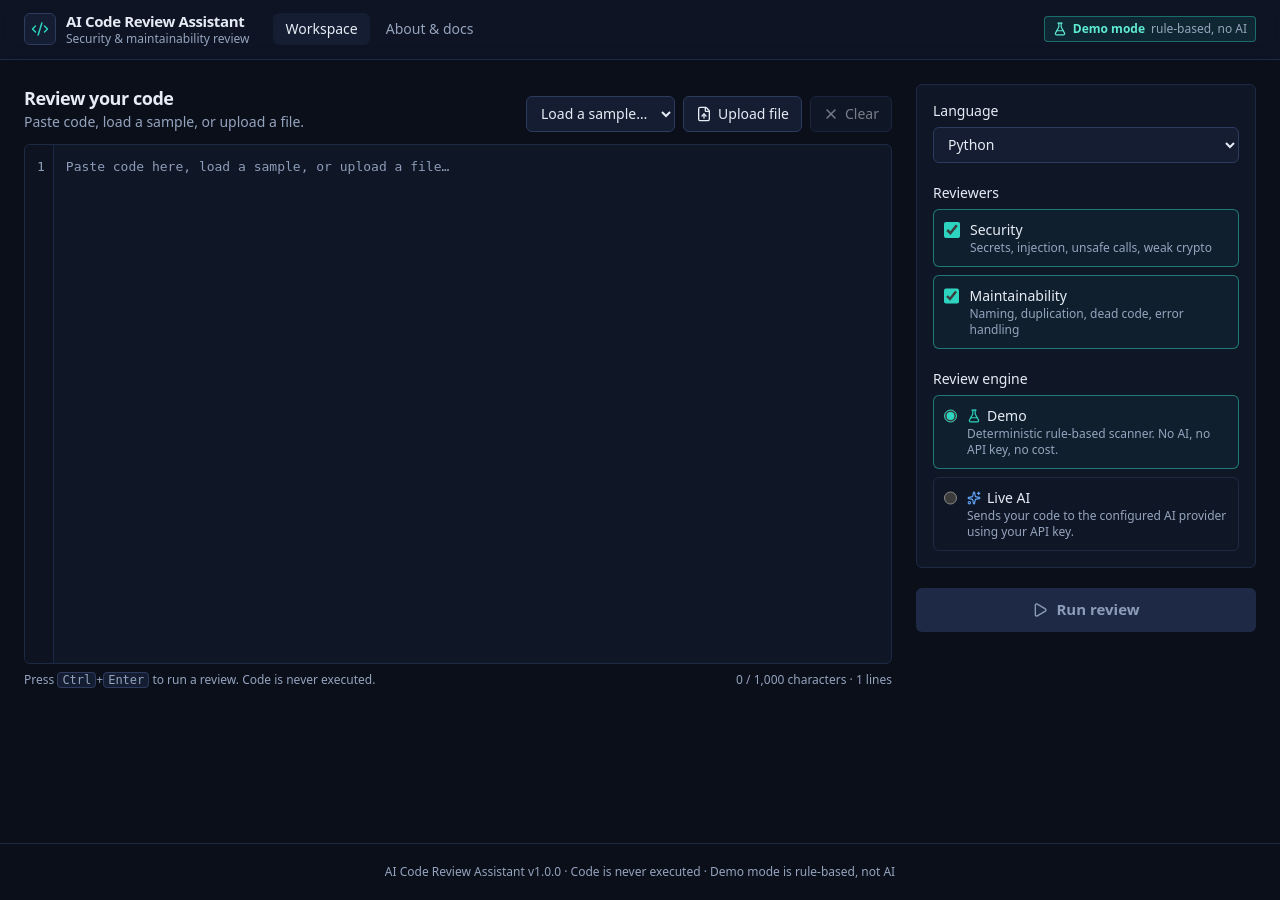
it: review flow › shows the explanation and suggested fix of the selected finding
Type "x = 1" into the text box named "Code to review".
click(472, 404); type("x = 1")  # box left=54, top=145, right=891, bottom=663
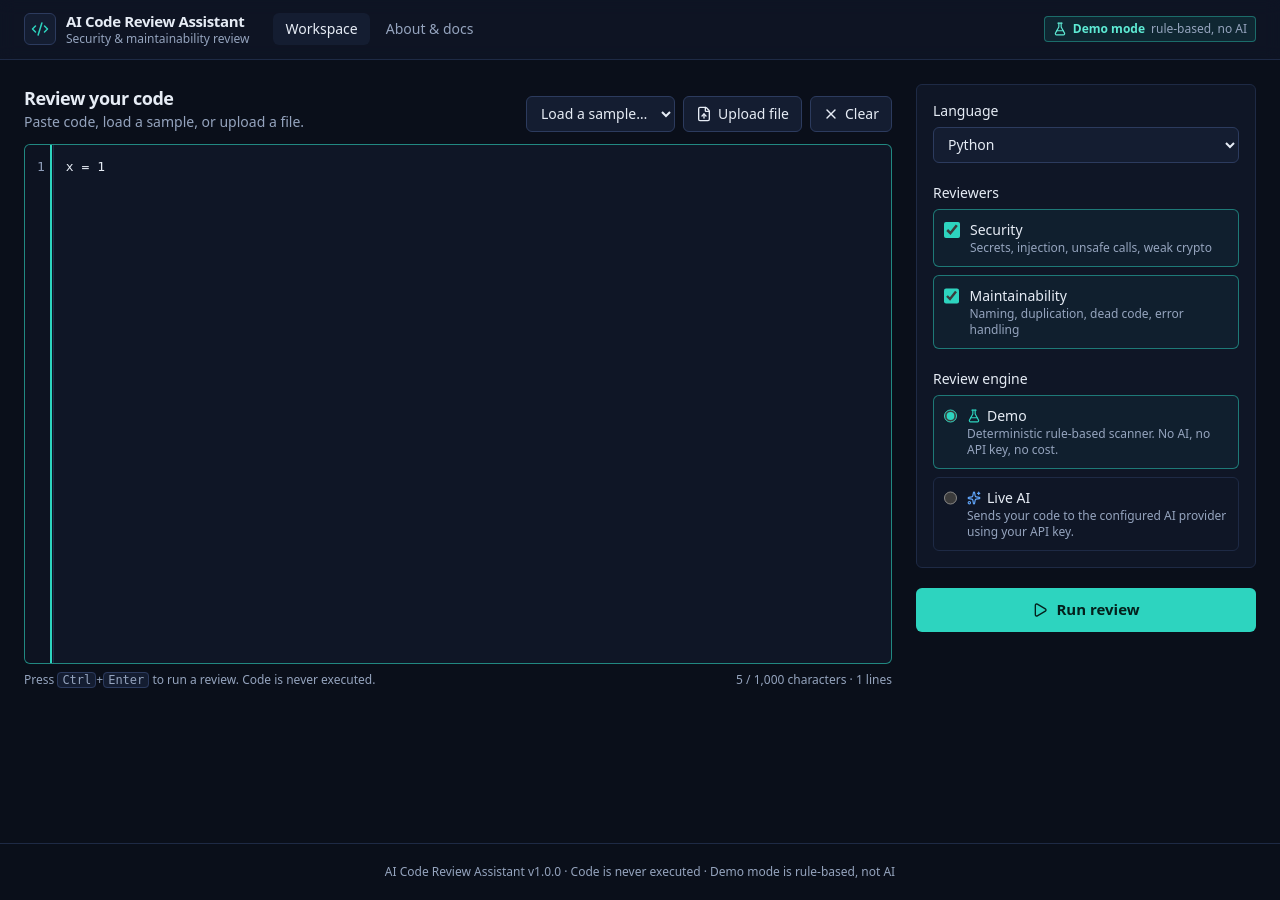
Click the button "Run review".
click(1086, 610)  # box left=916, top=588, right=1256, bottom=632
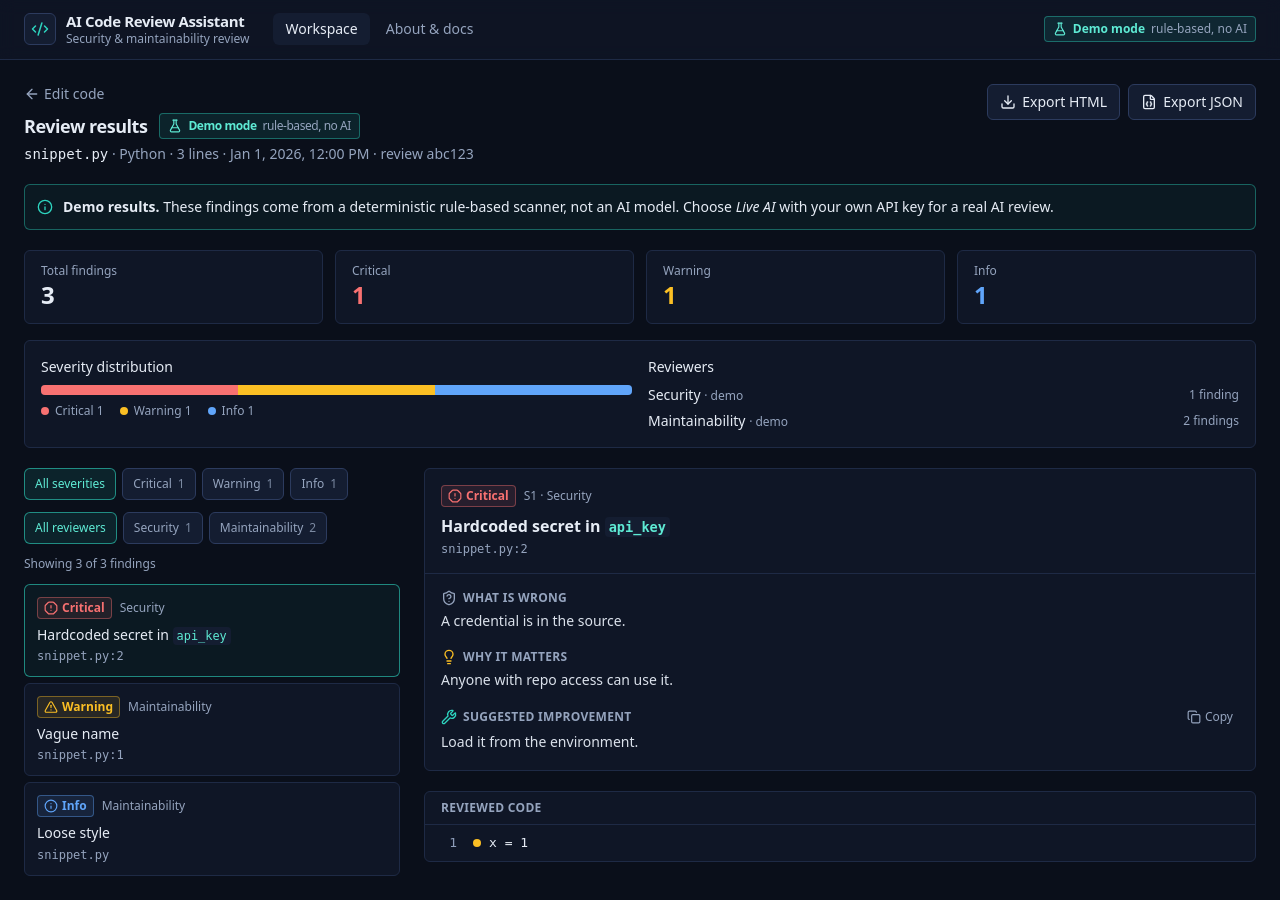
Result: the heading "Review results Demo mode rule-based, no AI" is shown at left=24, top=113, right=360, bottom=139
Click the button "Warning Maintainability Vague name snippet.py:1".
click(79, 707)  # box left=24, top=683, right=400, bottom=776
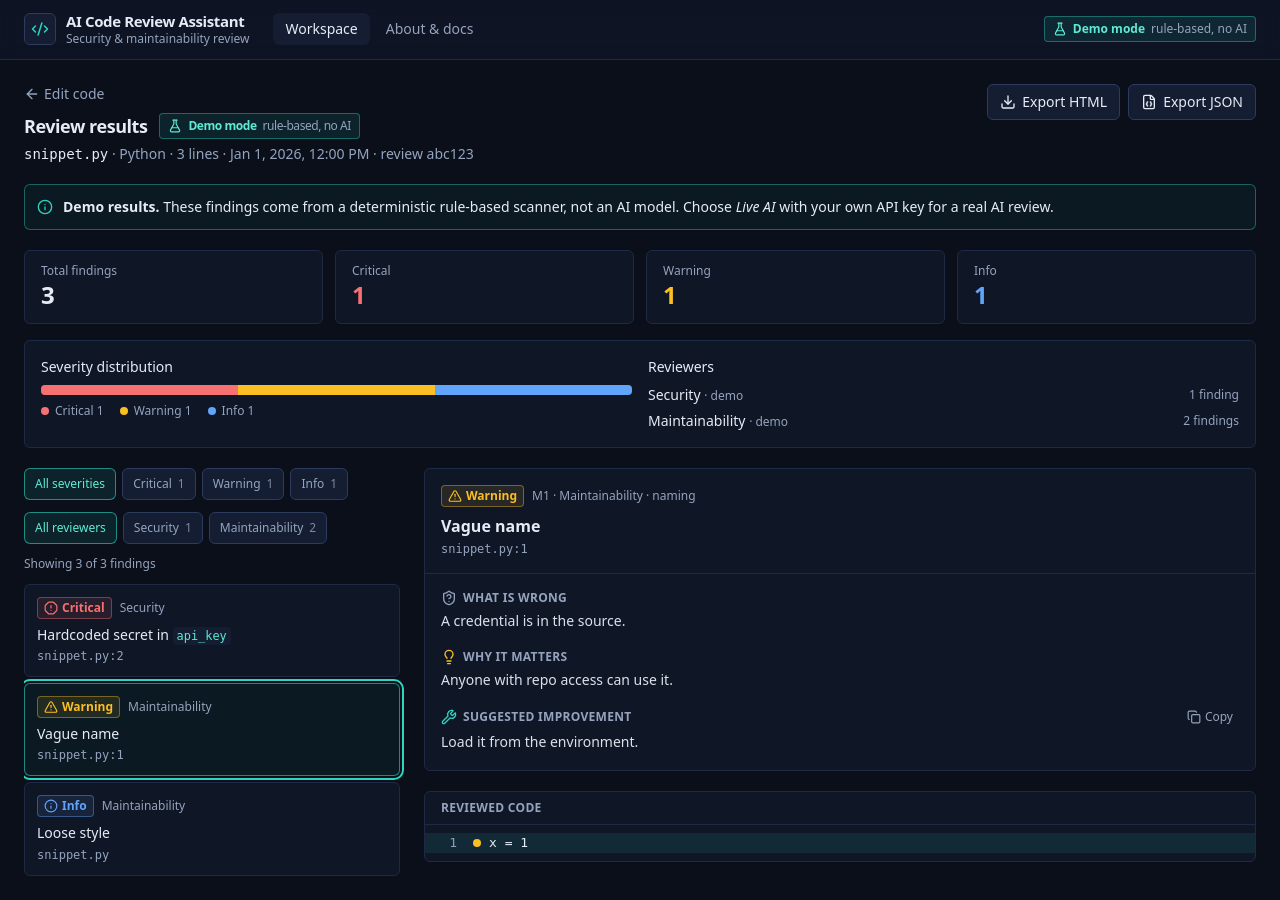
Result: the element named "Finding M1: Vague name" shows "Why it matters" at left=463, top=648, right=568, bottom=664
Result: the element named "Finding M1: Vague name" shows "Load it from the environment." at left=441, top=732, right=638, bottom=751
Result: the element named "Finding M1: Vague name" shows "Vague name" at left=441, top=515, right=540, bottom=537
